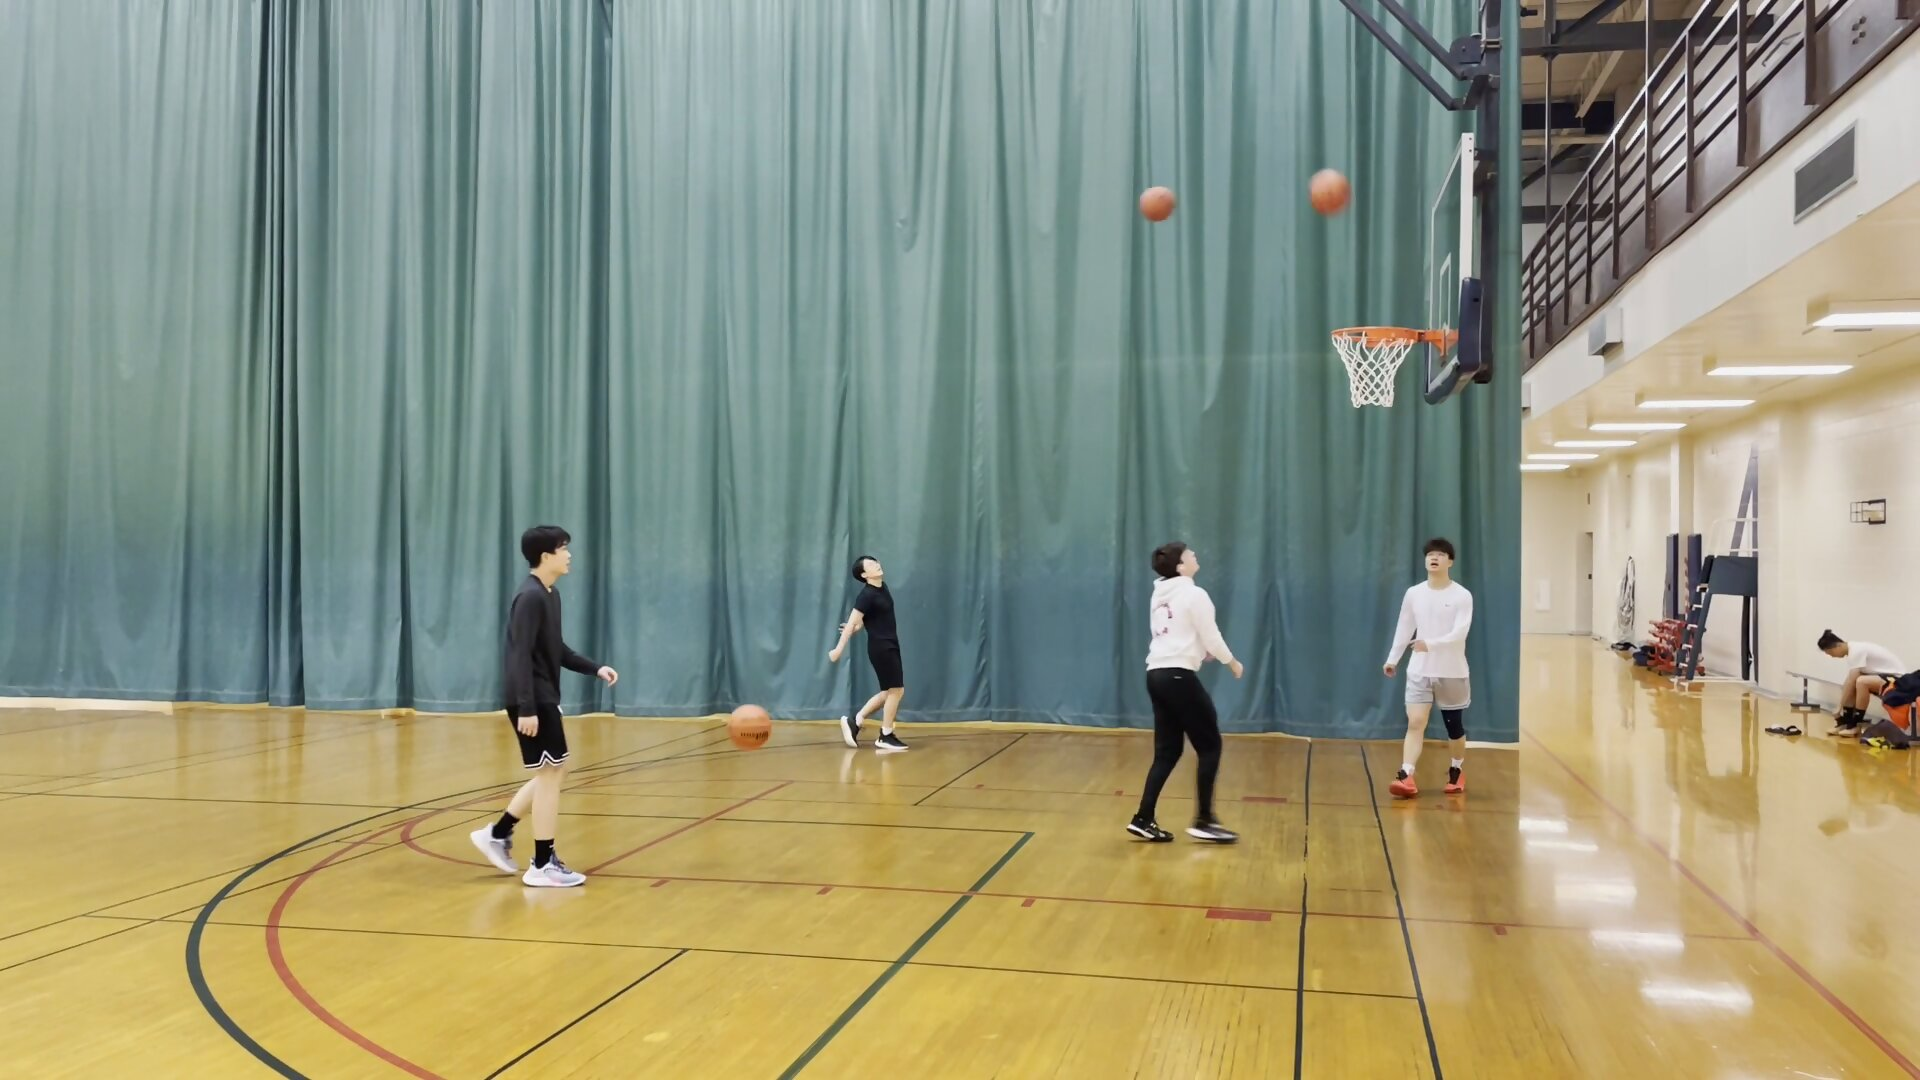ball: (727, 701, 774, 750), (1305, 169, 1351, 219), (1138, 187, 1178, 224)
net: (1340, 384, 1405, 417)
player: (481, 517, 603, 888), (1125, 540, 1250, 853), (1389, 538, 1472, 801), (840, 549, 914, 754), (1812, 630, 1910, 740)
rim: (1327, 320, 1419, 351)
